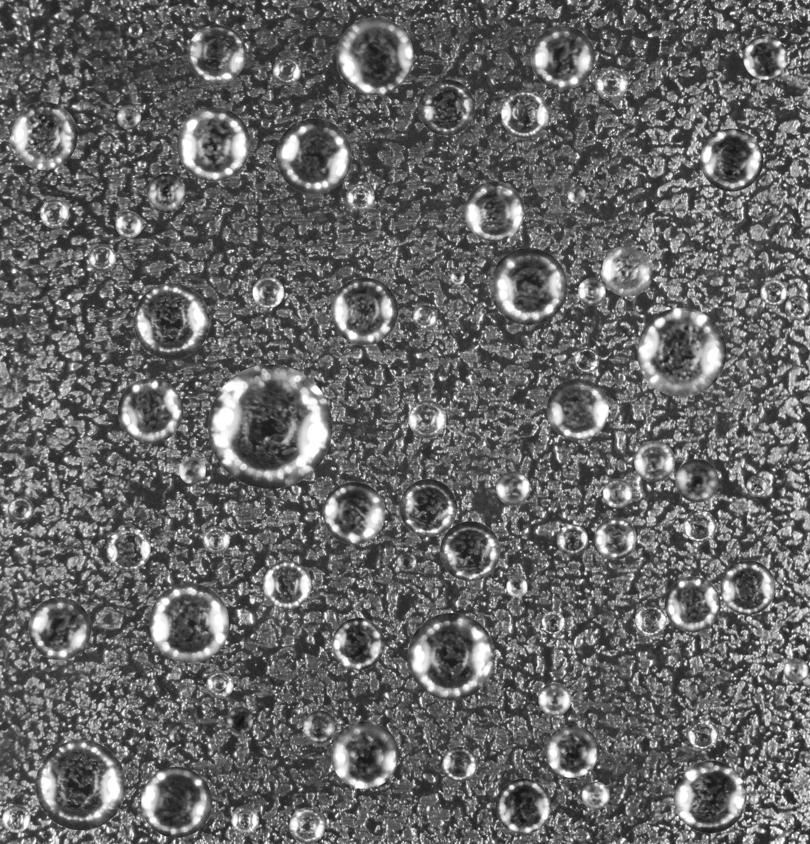Bubble: (208, 364, 332, 488), (35, 740, 125, 830), (637, 307, 726, 396), (407, 613, 494, 700), (149, 583, 228, 662), (490, 247, 567, 325), (336, 17, 413, 95), (133, 283, 209, 359), (276, 118, 351, 193), (176, 107, 250, 181), (673, 760, 746, 833), (141, 767, 211, 837), (9, 101, 77, 169), (330, 277, 398, 344), (331, 721, 398, 788), (117, 378, 183, 443), (530, 25, 594, 89), (700, 128, 763, 191), (28, 597, 91, 660), (546, 378, 608, 440), (323, 482, 385, 544), (464, 181, 524, 241), (440, 521, 500, 581), (187, 24, 246, 83), (399, 479, 457, 536), (418, 79, 474, 135), (664, 576, 720, 632), (495, 778, 551, 834), (720, 560, 775, 615), (332, 618, 384, 670), (546, 725, 598, 777), (602, 245, 653, 296), (263, 560, 311, 609), (501, 90, 548, 138), (106, 526, 150, 571), (743, 35, 787, 79), (675, 459, 718, 502), (594, 517, 636, 559), (634, 440, 675, 481), (146, 173, 186, 212), (408, 400, 446, 438), (289, 807, 325, 843), (442, 747, 477, 782), (496, 471, 530, 505), (303, 710, 336, 743), (595, 67, 628, 100), (538, 682, 571, 715), (683, 510, 716, 542), (252, 276, 284, 308), (634, 605, 666, 636), (556, 524, 588, 555), (688, 719, 718, 749), (602, 478, 632, 508), (40, 199, 69, 228), (272, 56, 301, 85), (346, 183, 374, 212), (2, 804, 30, 832), (581, 781, 609, 809), (231, 805, 259, 833), (88, 244, 116, 272), (115, 211, 142, 238), (178, 457, 205, 484), (202, 526, 229, 553), (578, 278, 605, 305), (206, 671, 233, 698), (226, 707, 253, 733), (760, 279, 787, 305), (573, 347, 599, 373), (7, 496, 33, 522), (783, 658, 808, 683), (116, 105, 141, 129), (413, 305, 437, 329), (785, 295, 809, 319), (542, 611, 564, 634), (746, 475, 767, 497), (506, 576, 527, 597), (397, 552, 416, 571), (567, 185, 585, 203), (450, 270, 464, 285), (128, 23, 142, 37)
